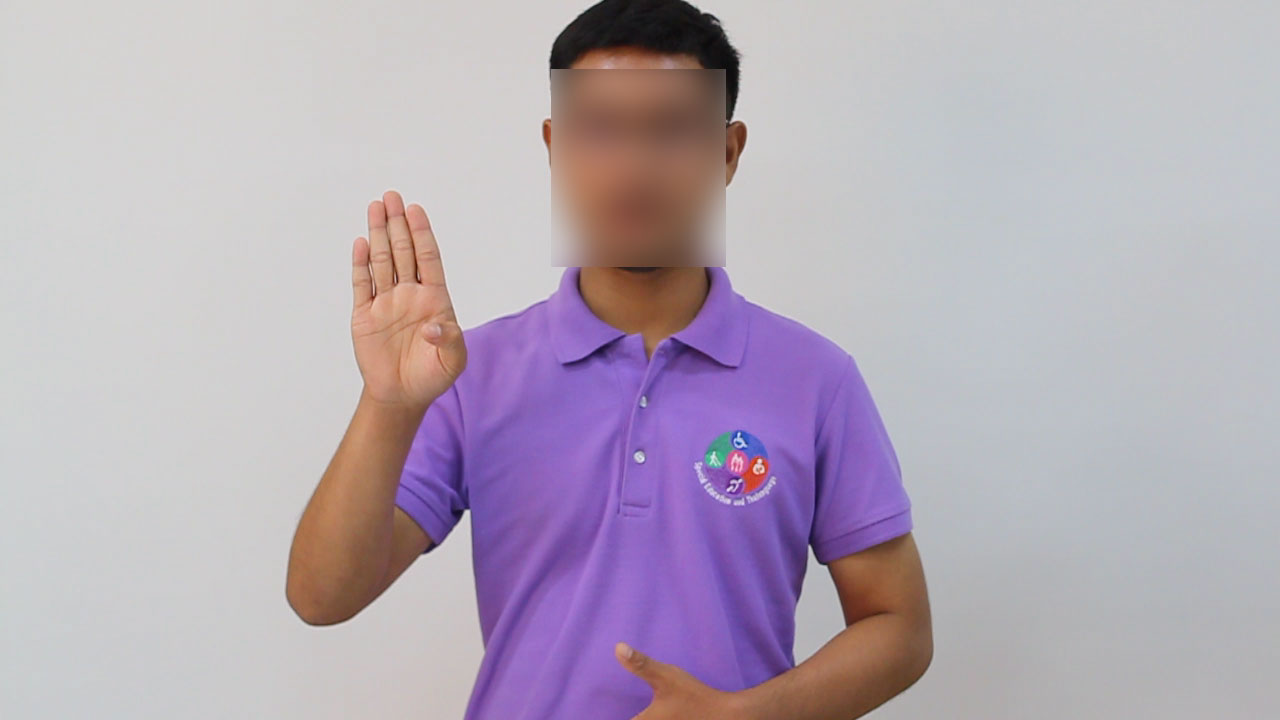bor: (328, 171, 484, 433)
